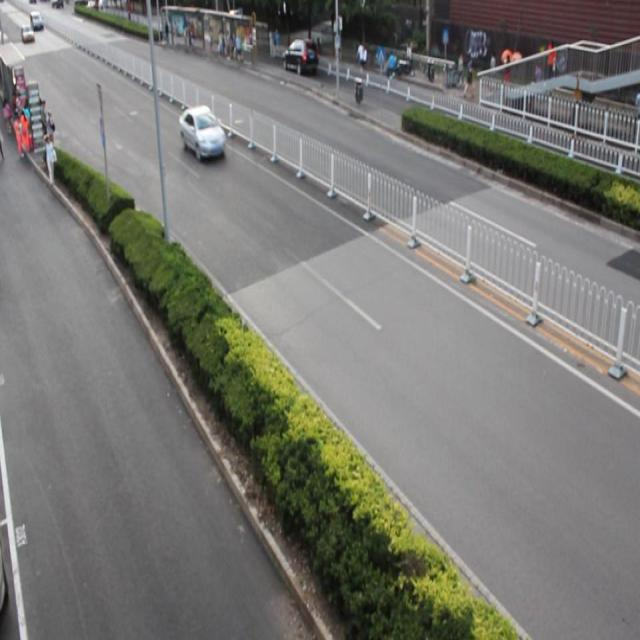car: (180, 104, 225, 164), (280, 42, 318, 77)
